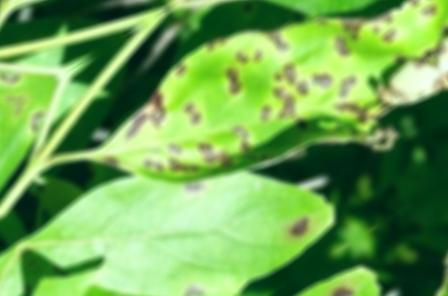Tomato leaf bacterial spot: (59, 0, 448, 296), (26, 77, 364, 296)
